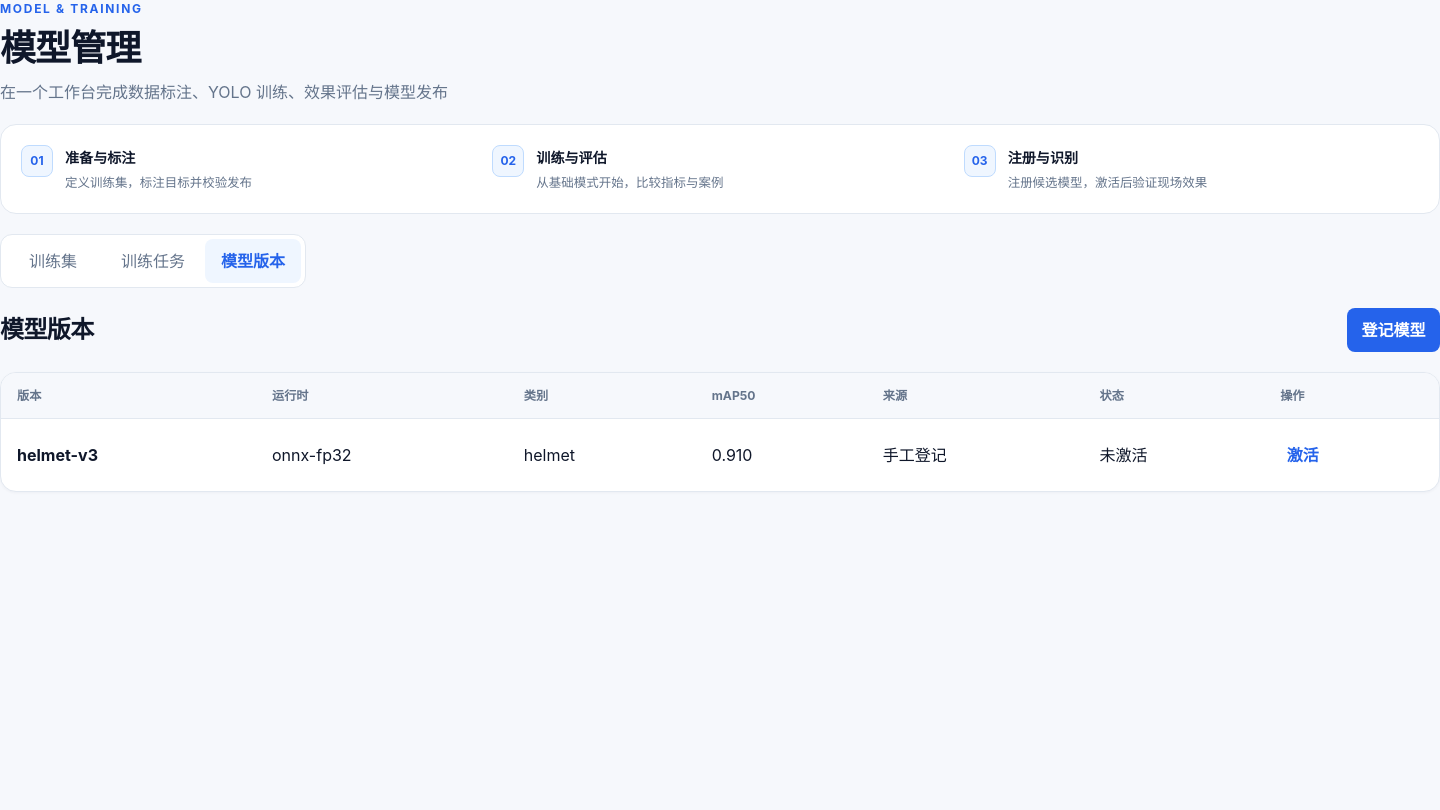
announces model activation failure inside the confirmation dialog
The width and height of the screenshot is (1440, 810).
Click the button with aria-label "激活helmet-v3": [1303, 455] box [1280,433,1326,477]
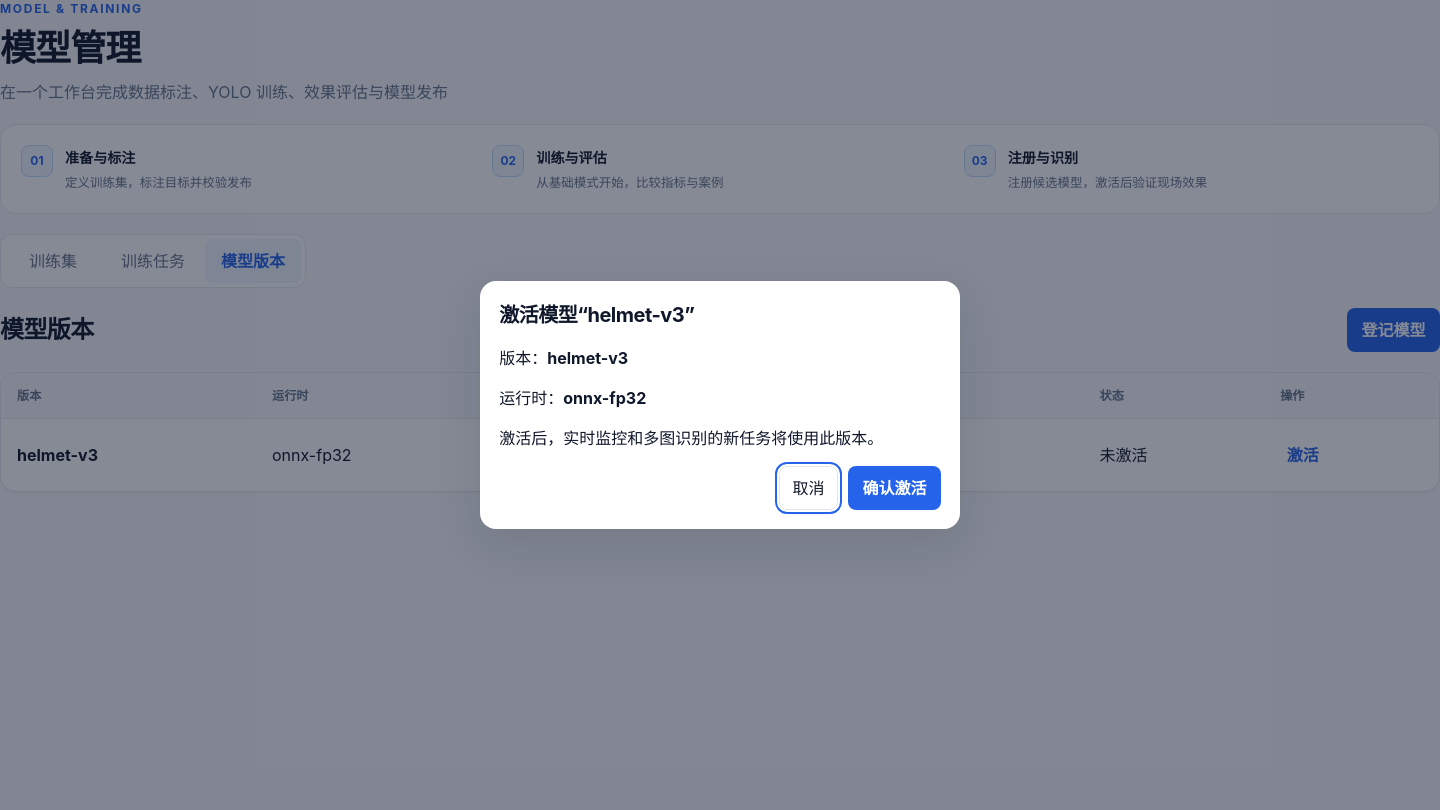
Click the button "确认激活": [894, 488] box [848,466,941,510]
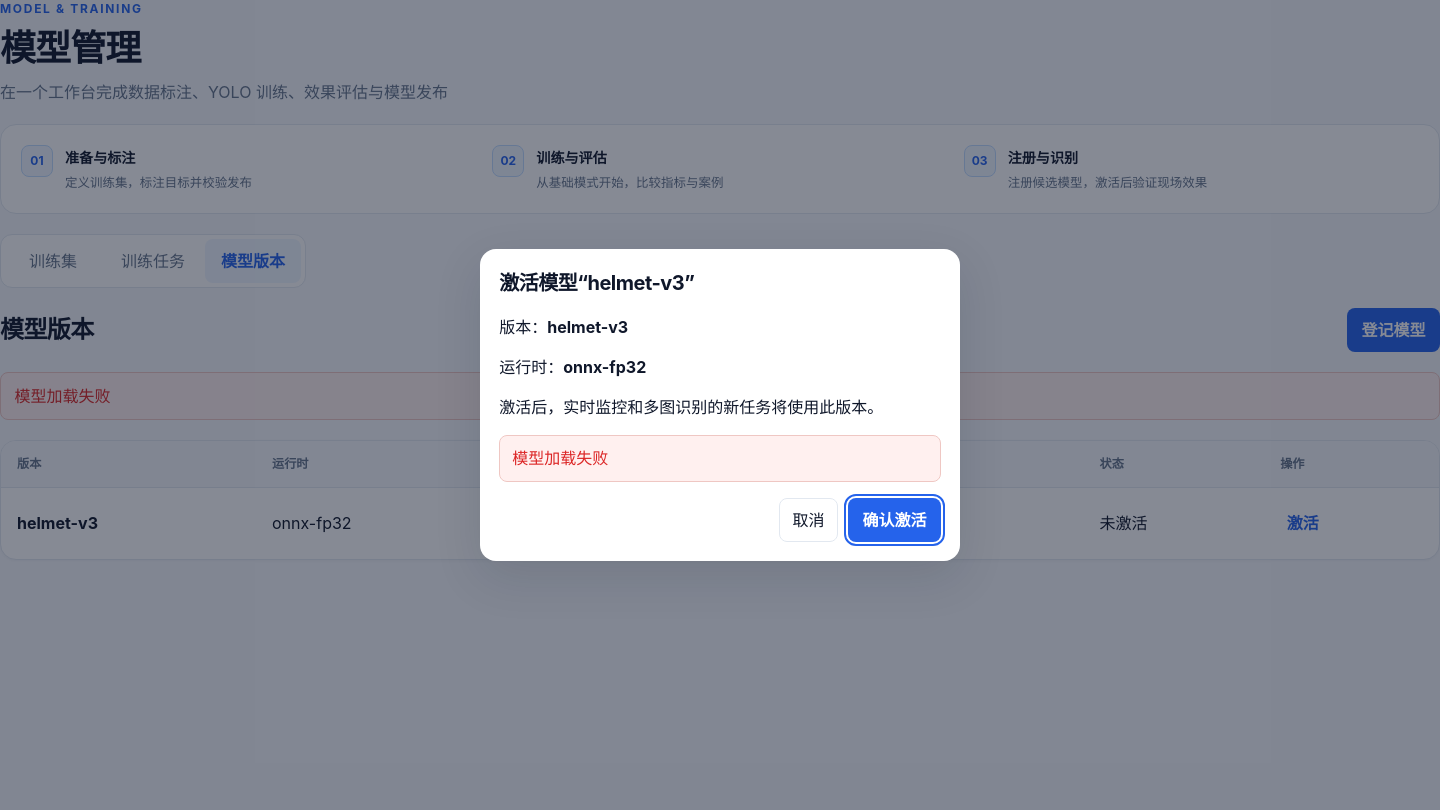
Now the message reads "模型加载失败", box [512,448,608,468]
